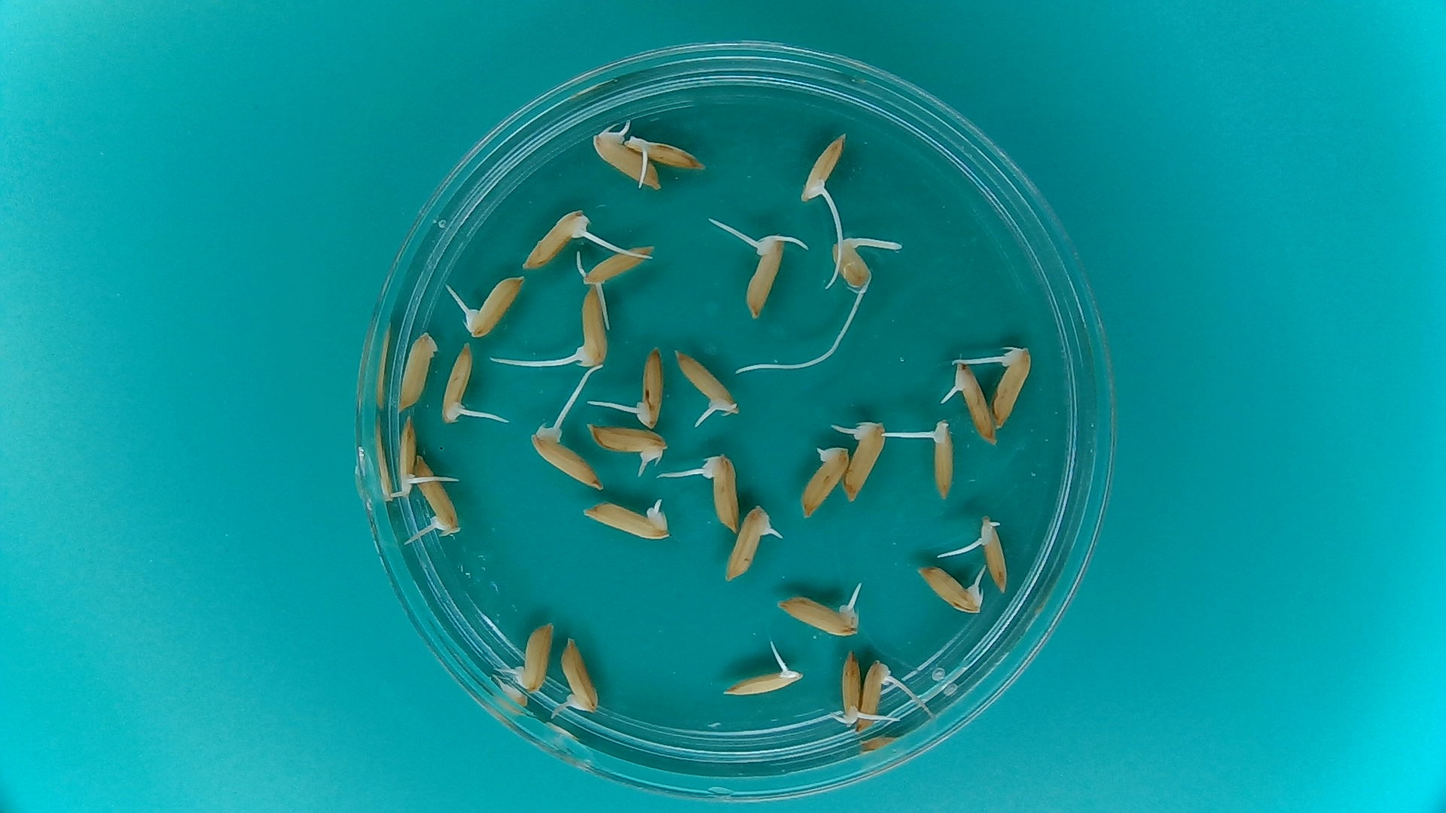no: (398, 331, 439, 412)
yes: (525, 428, 599, 491), (673, 346, 739, 416), (519, 209, 587, 272), (595, 132, 663, 192), (580, 498, 672, 542), (723, 504, 773, 584), (414, 454, 462, 537), (464, 276, 526, 339), (951, 360, 996, 443), (587, 422, 670, 467), (844, 419, 887, 502), (801, 446, 850, 518), (744, 233, 786, 316), (572, 283, 612, 370), (993, 346, 1034, 430), (561, 634, 603, 714), (579, 242, 651, 287), (829, 233, 878, 296), (799, 137, 846, 202), (703, 452, 740, 534), (631, 346, 667, 429), (514, 618, 554, 692), (719, 663, 800, 698), (779, 598, 856, 634), (921, 568, 984, 612), (441, 343, 474, 424), (977, 516, 1011, 594), (858, 659, 893, 730), (624, 136, 697, 170), (928, 419, 956, 501), (396, 413, 421, 504), (835, 647, 863, 726)
